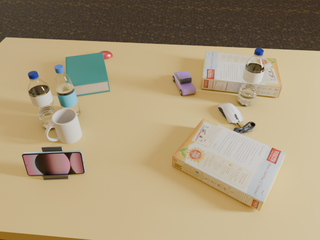book: (66, 52, 110, 96)
bottle: (28, 71, 57, 128), (237, 48, 265, 106), (54, 65, 80, 116)
box: (172, 119, 286, 211), (201, 51, 282, 97)
cup: (45, 108, 82, 144)
mouse: (218, 103, 243, 125), (101, 51, 113, 59)
phone: (22, 151, 85, 176)
toy_car: (173, 71, 196, 95)
